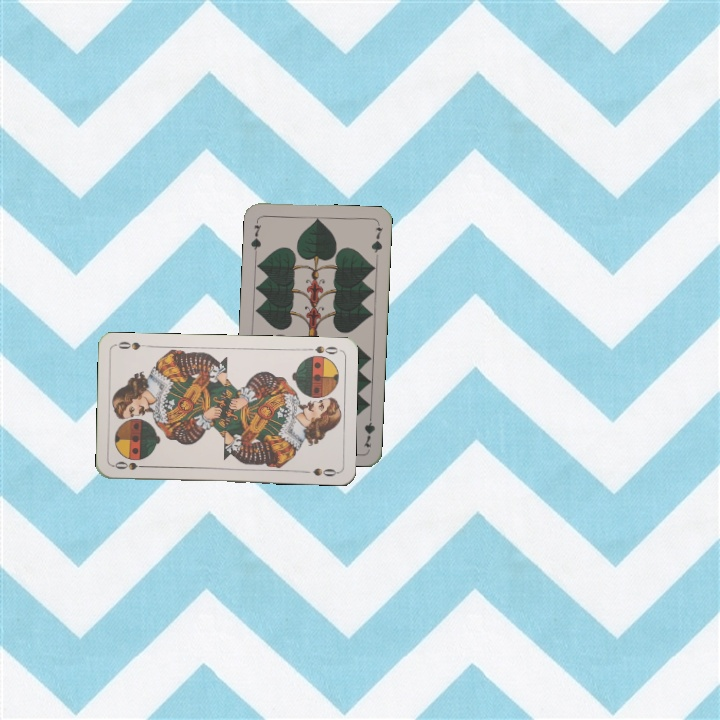G7: (360, 410, 378, 450), (247, 216, 264, 256)
SO: (301, 342, 340, 357), (110, 458, 151, 472)
